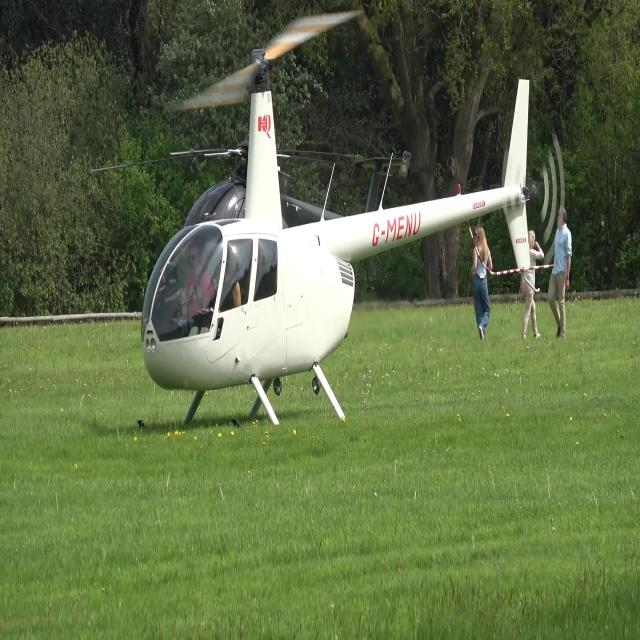CIV_HELO: (135, 44, 536, 442)
